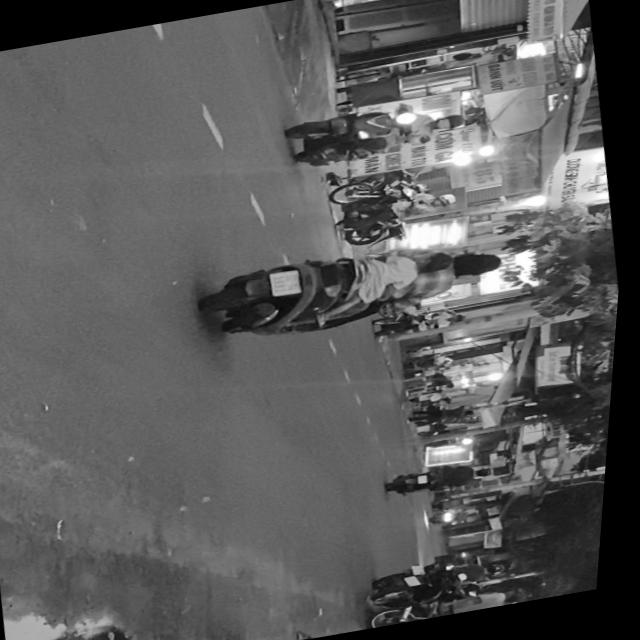helmet: (433, 110, 469, 131)
licenseplate: (197, 221, 518, 350), (280, 90, 474, 174)
motorcyclist: (455, 244, 510, 280), (417, 249, 459, 275)
nohelmet: (273, 268, 306, 296)
